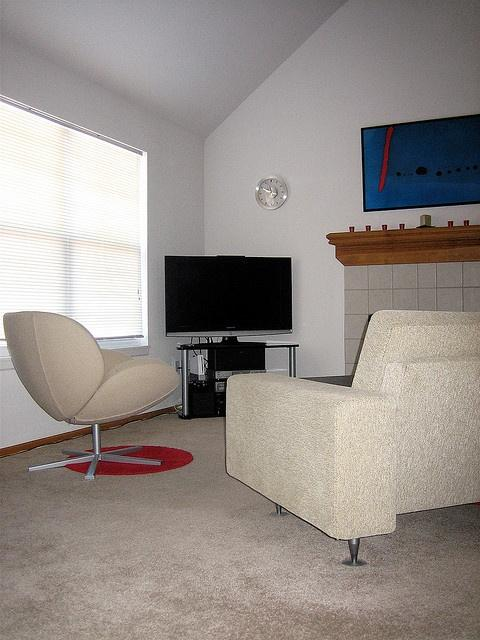AIO PC-Monitor-TV: (163, 254, 293, 346)
